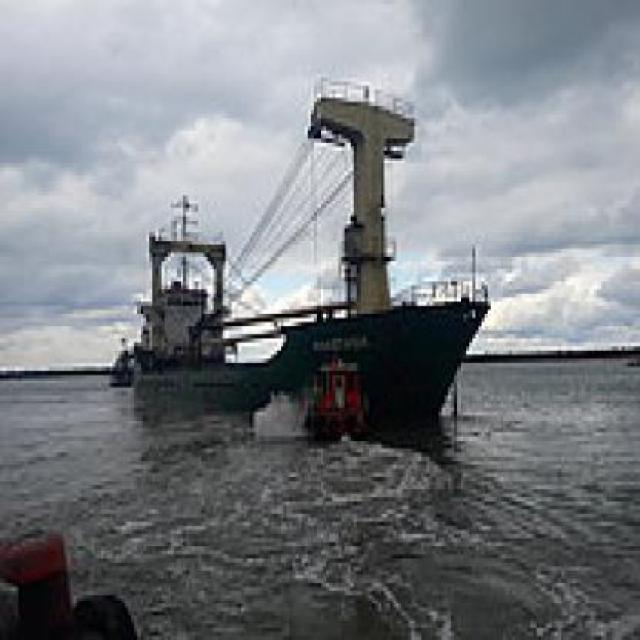container: (126, 66, 501, 462)
